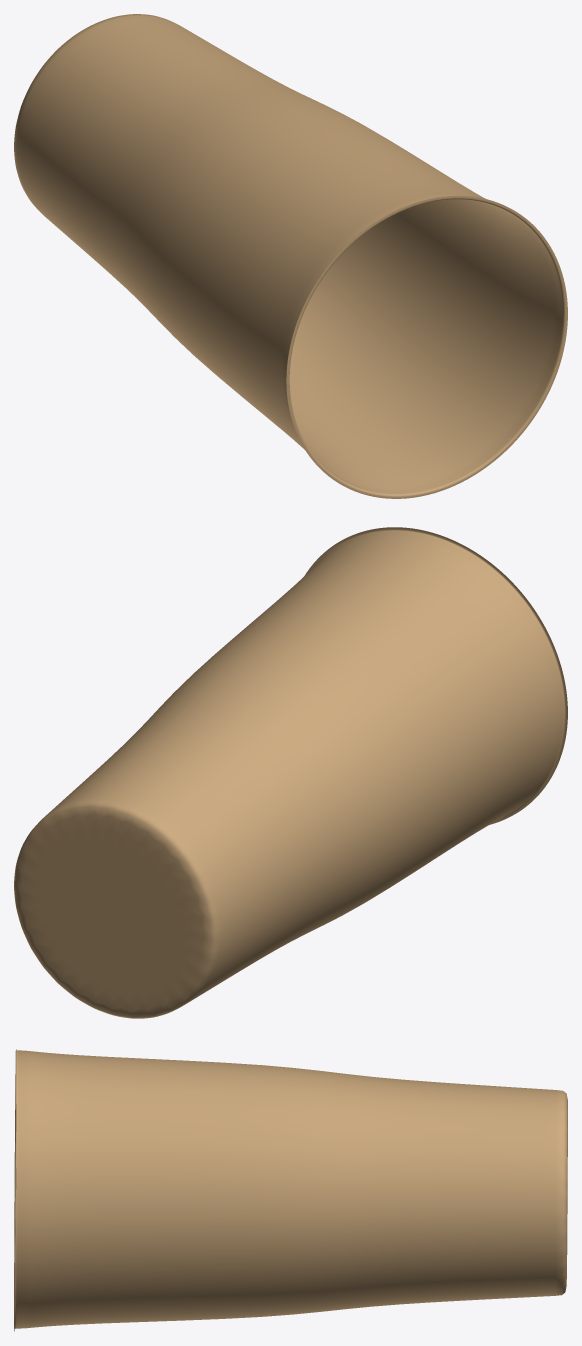
3 views of the same model, one above another, from view 1: azimuth 30°, elevation 25°; view 2: azimuth 150°, elevation 25°; view 3: azimuth 270°, elevation 25° (orthographic). The views are drawn at different scales.
Bounding box in the file's own units: 0.4636 × 0.4636 × 0.9023.
Materials: 1 (1 with a texture image).
